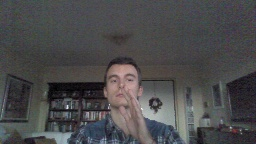Mano_aperta: (118, 84, 149, 140)
